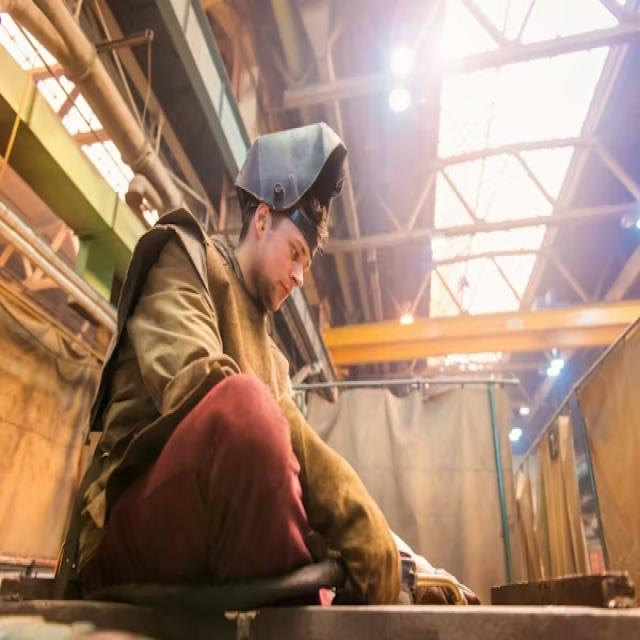helmet_lifted: (237, 109, 361, 318)
